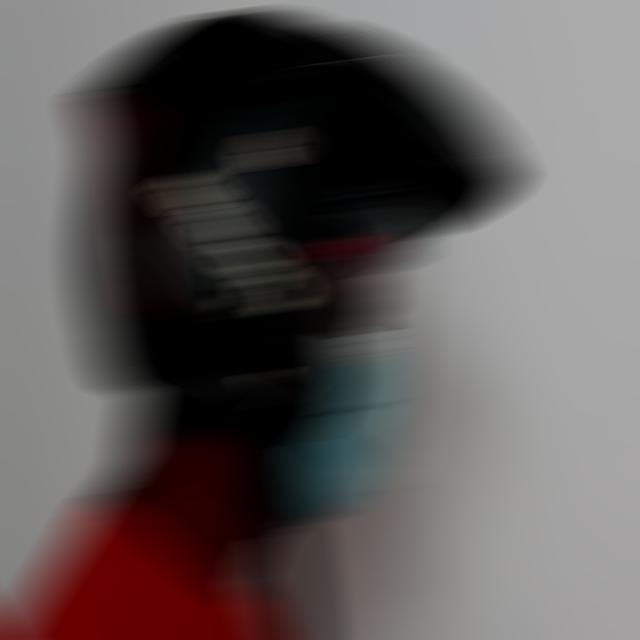With Helmet: (74, 5, 516, 492)
